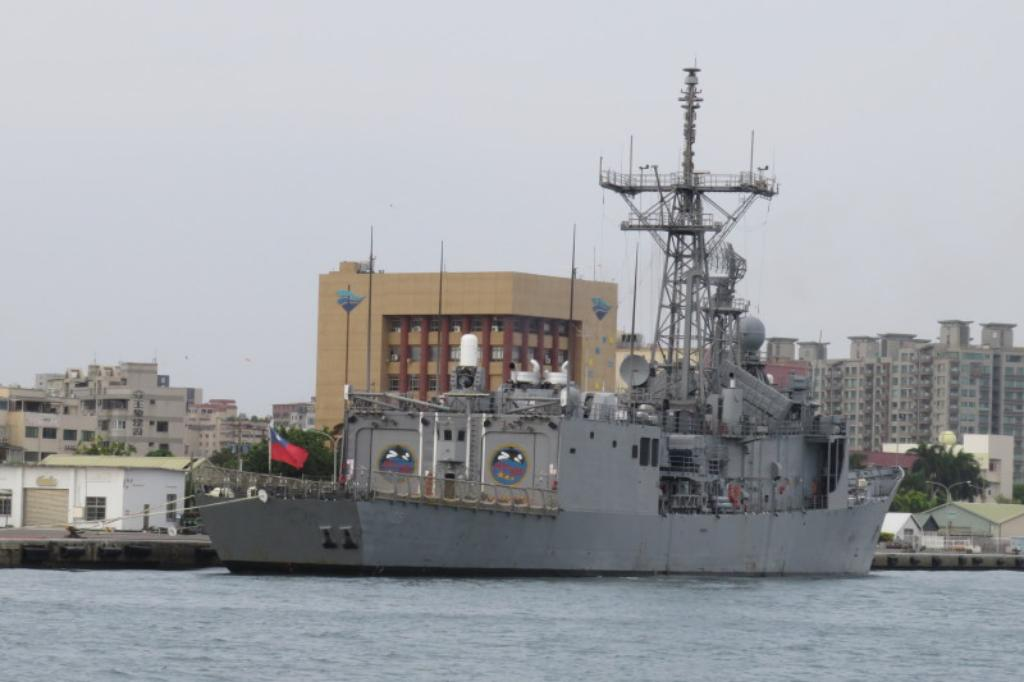Warship: (180, 52, 914, 580)
